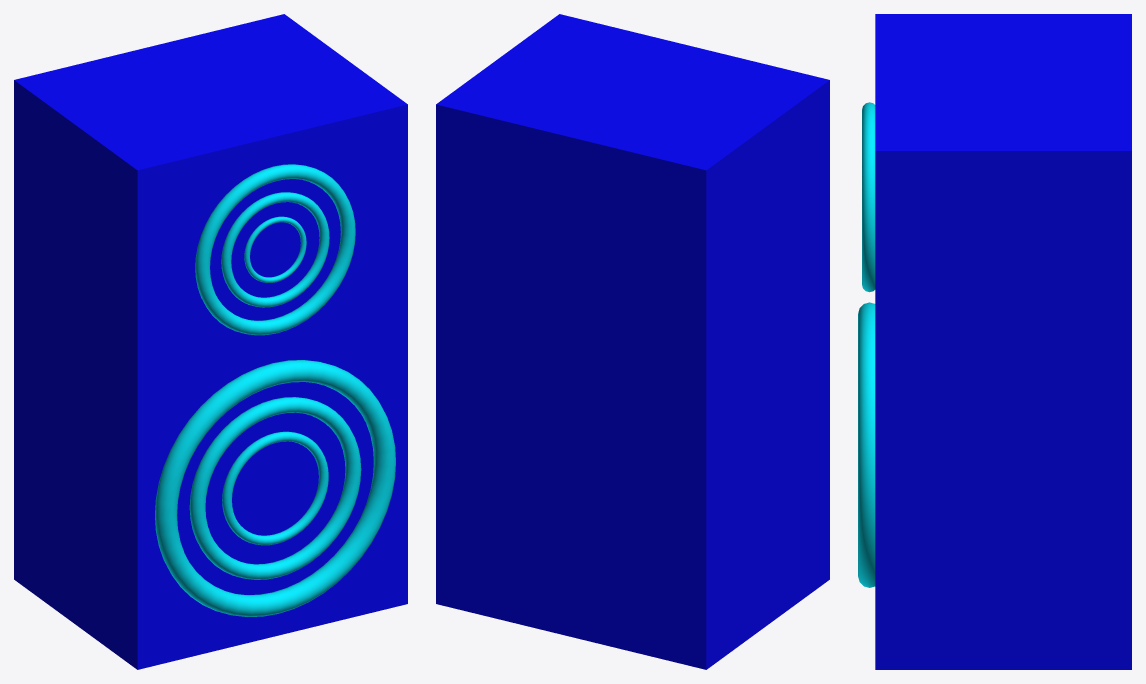
Rendered from SM_MediumBOX.FBX.
3 renders of one model, left to right at view 1: azimuth 30°, elevation 25°; view 2: azimuth 150°, elevation 25°; view 3: azimuth 270°, elevation 25°, orthographic. The views are drawn at different scales.
Parts seen in each view (by area): view 1: Box003, BigCircles001, Medium Circles, SmallCircles001; view 2: Box003; view 3: Box003, BigCircles001.
Boxes of the visible parts, x1,y1,x2,y2 form: Box003: [14, 14, 407, 669]; BigCircles001: [155, 164, 395, 616]; Medium Circles: [189, 192, 361, 579]; SmallCircles001: [222, 216, 328, 545]; Box003: [436, 14, 829, 669]; Box003: [875, 14, 1131, 669]; BigCircles001: [858, 102, 875, 587].
Size of the model in its own units: 34.04 by 60.09 by 28.74.
